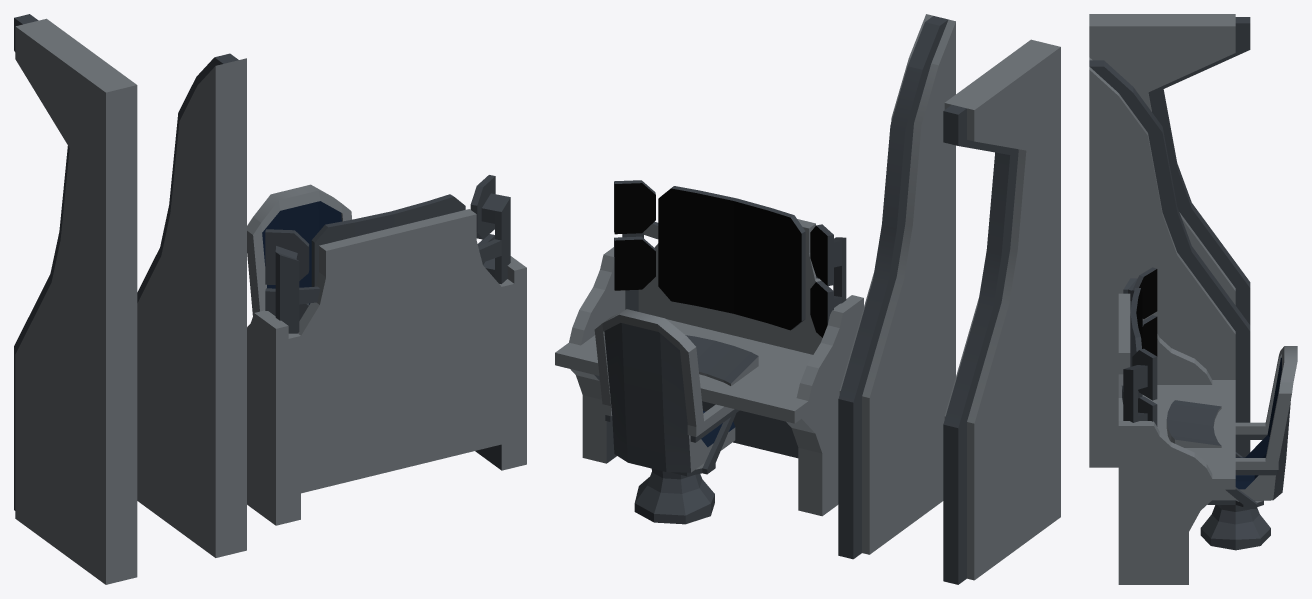
Rendered from chair_lp.fbx.
3 views of the same model, side by side, from view 1: azimuth 30°, elevation 25°; view 2: azimuth 150°, elevation 25°; view 3: azimuth 270°, elevation 25° (orthographic). The views are drawn at different scales.
Visible parts, largest first — view 1: terminal1, divider.001, divider, chair; view 2: terminal1, divider.001, divider, chair, chair_base; view 3: divider, terminal1, divider.001, chair, chair_base.
Boxes of the visible parts, x1,y1,x2,y2 form: terminal1: (247,175,526,525); divider.001: (14,14,137,584); divider: (137,53,246,557); chair: (247,184,352,315); terminal1: (555,180,863,516); divider.001: (943,39,1060,584); divider: (838,14,955,559); chair: (594,309,739,476); chair_base: (634,468,714,524); divider: (1089,57,1250,467); terminal1: (1118,267,1235,584); divider.001: (1089,14,1250,324); chair: (1207,346,1297,508); chair_base: (1200,505,1270,550).
Size of the model in its own units: 2.8 by 3 by 1.42.
